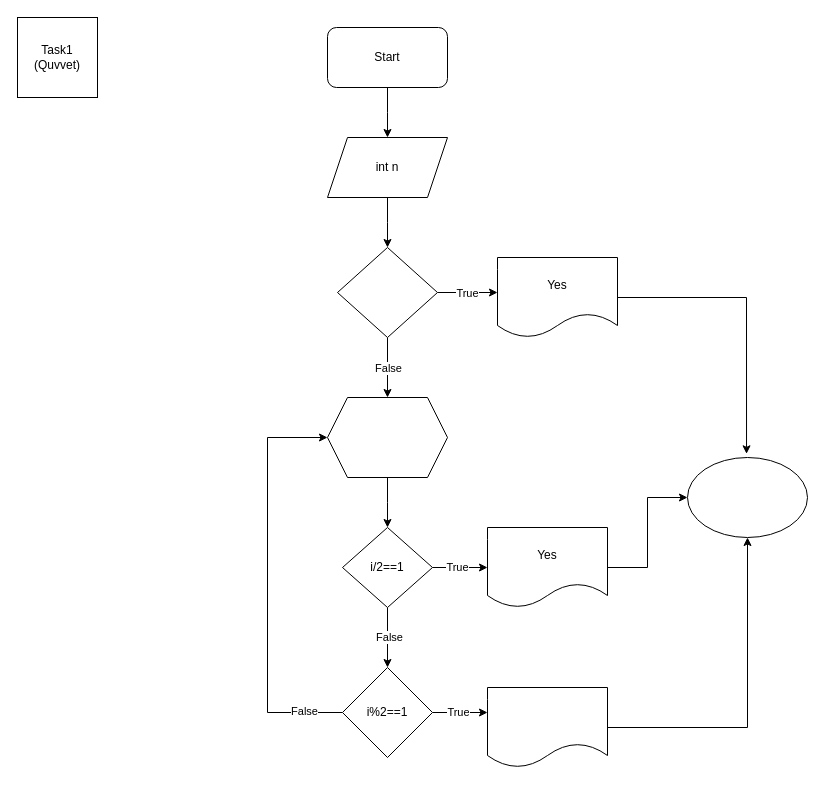
Image size: 825x785. Some labels were removed from this diagram. Each missing label, with the box of its shape:
end: (686, 456, 808, 538)
int i = n; i > 1; i /= 2: (326, 396, 448, 478)
n==1: (336, 246, 438, 338)
No: (486, 686, 608, 768)
